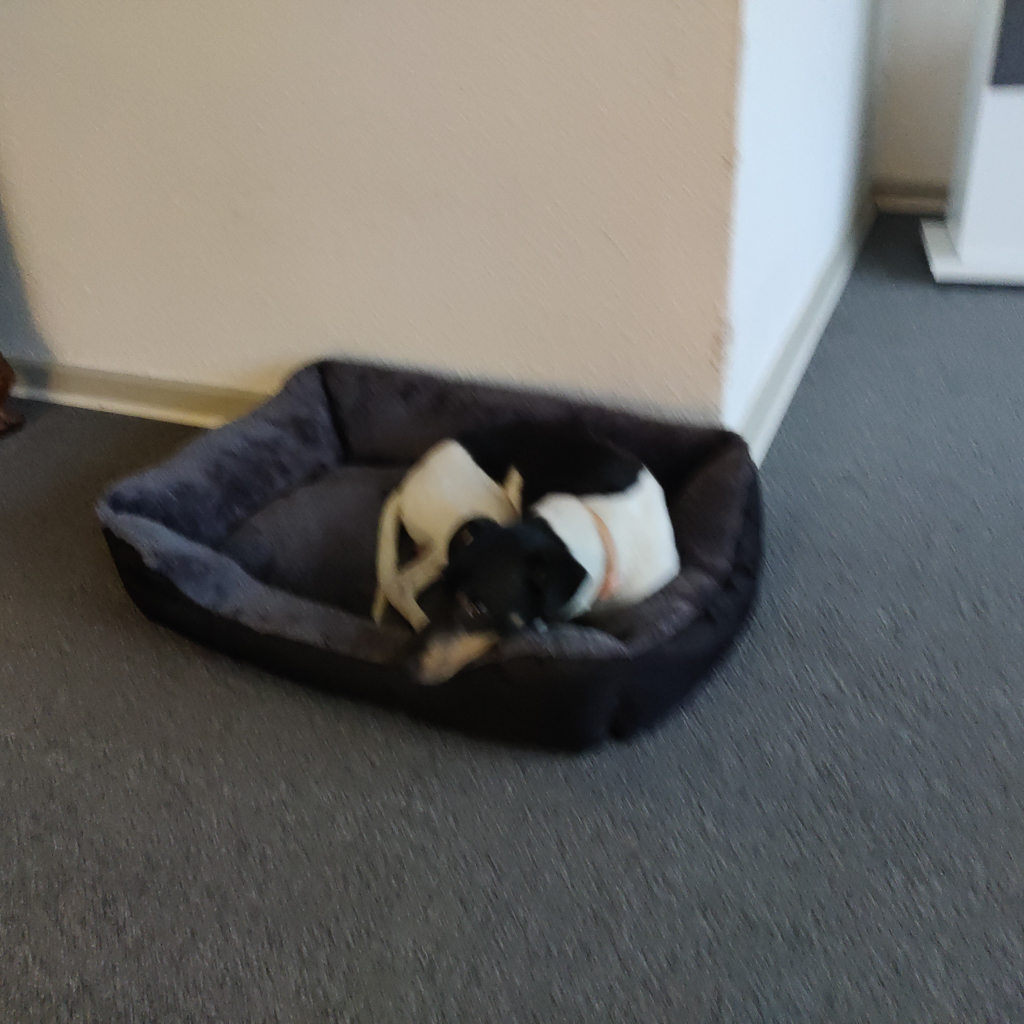Dog: (320, 397, 711, 726)
